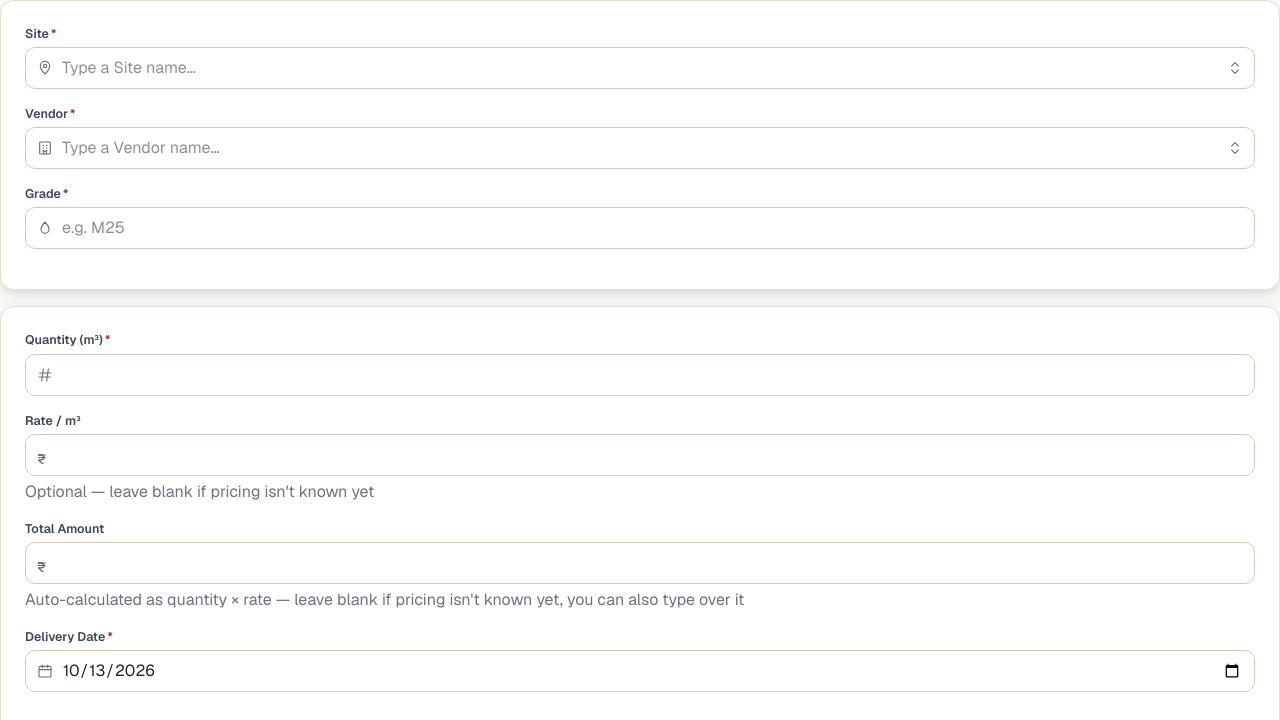
Test: RmcForm › lets the user type over the computed total, then recomputes (clearing the override) when quantity changes
Type "10" into the number field labelled "Quantity (m³)".
click(640, 374); type("10")  # box [25,354,1255,396]
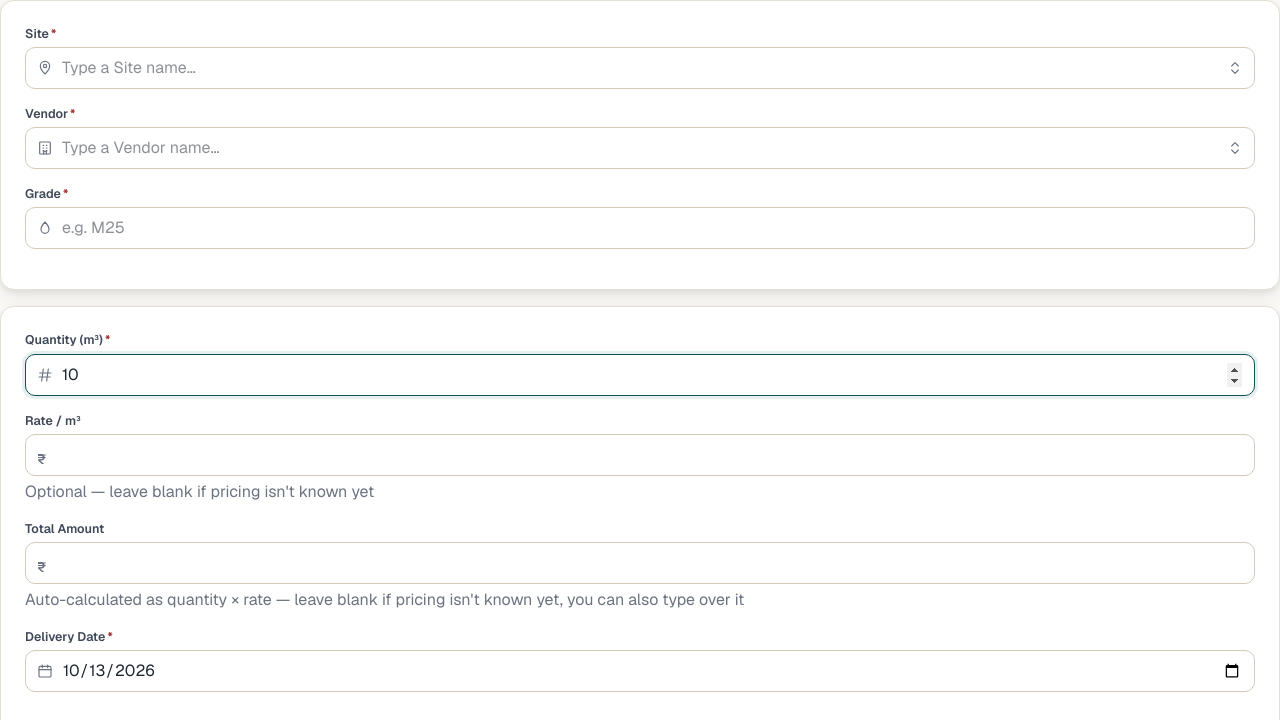
Type "100" into the number field labelled "Rate / m³".
click(640, 455); type("100")  # box [25,434,1255,476]
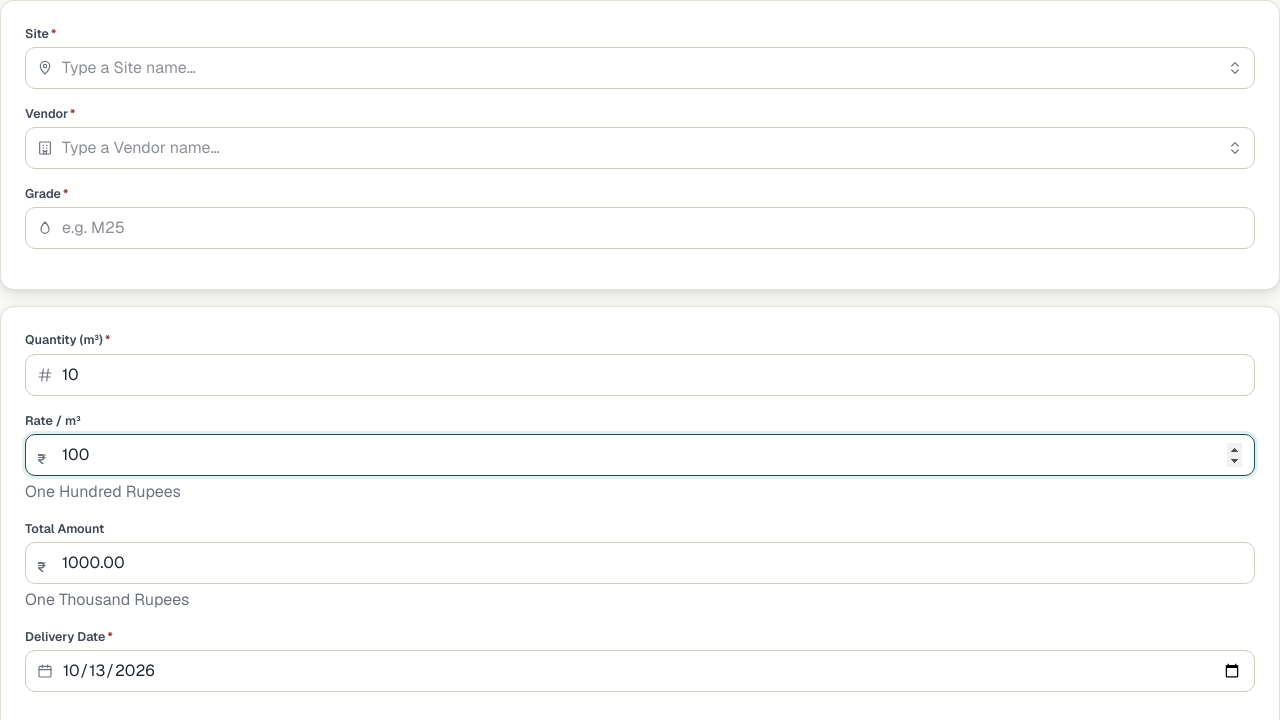
Now the number field labelled "Total Amount" holds "1000"
Manual override sticks…
Replace the text in the number field labelled "Total Amount" with "950" at x=640, y=563, box [25,542,1255,584]
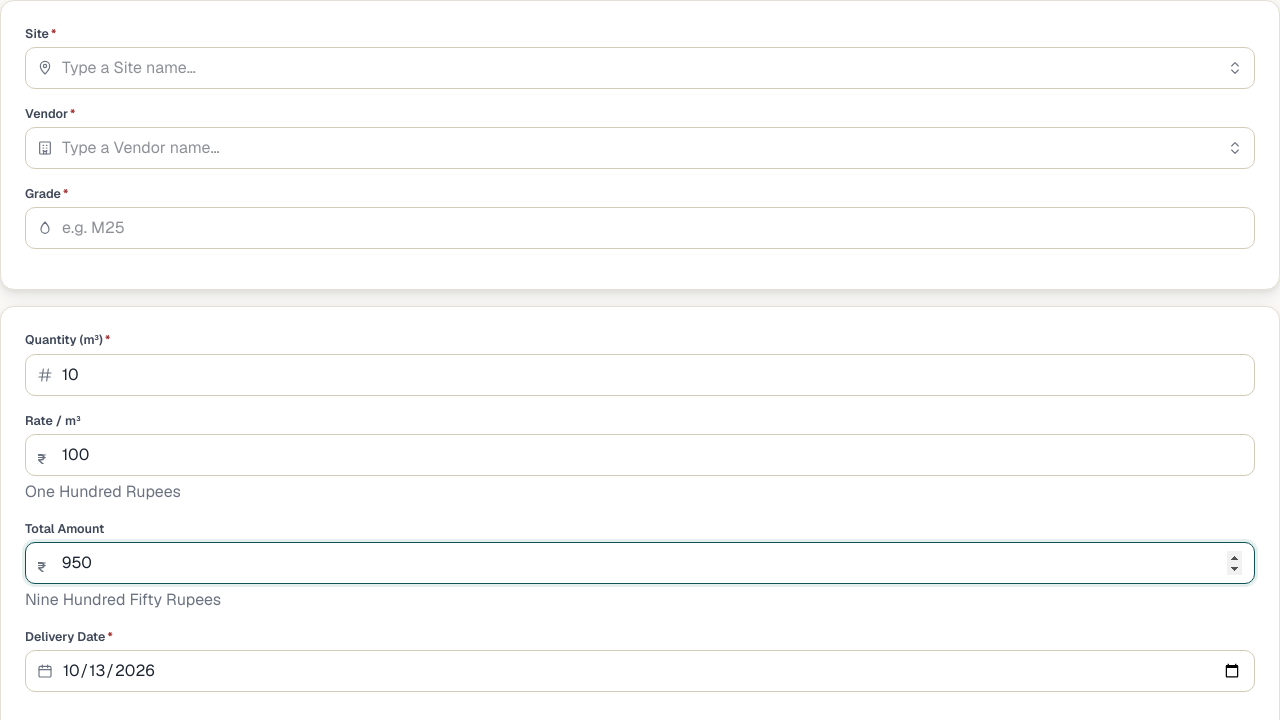
…until quantity or rate changes, which recomputes.
Type "0" into the number field labelled "Quantity (m³)".
click(640, 374); type("0")  # box [25,354,1255,396]
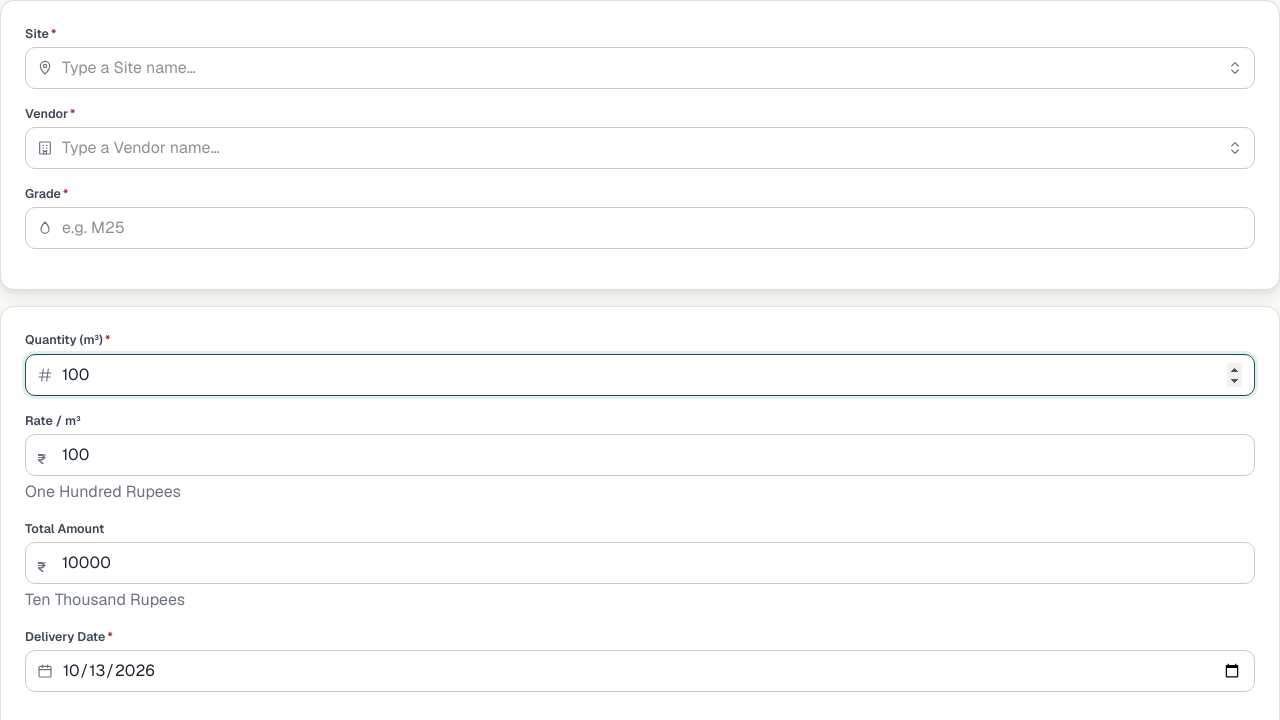
Now the number field labelled "Total Amount" holds "10000", box [25,542,1255,584]
